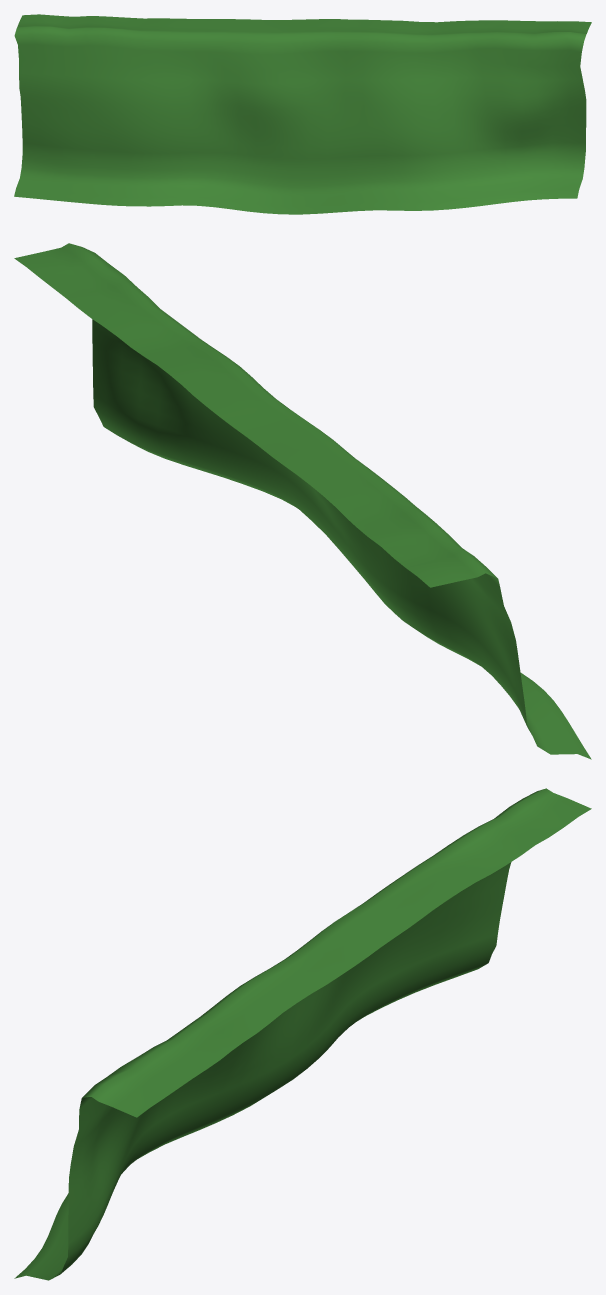
The model's file is ParedeMontanhosa.fbx.
3 views of the same model, one above another, from view 1: azimuth 30°, elevation 25°; view 2: azimuth 150°, elevation 25°; view 3: azimuth 270°, elevation 25° (orthographic). The views are drawn at different scales.
Parts seen in each view (by area): view 1: ParedeMontanhosa; view 2: ParedeMontanhosa; view 3: ParedeMontanhosa.
Boxes of the visible parts, x1,y1,x2,y2 form: ParedeMontanhosa: [14, 14, 591, 214]; ParedeMontanhosa: [14, 243, 591, 759]; ParedeMontanhosa: [14, 788, 591, 1280].
Size of the model in its own units: 2828 by 822 by 1964.
